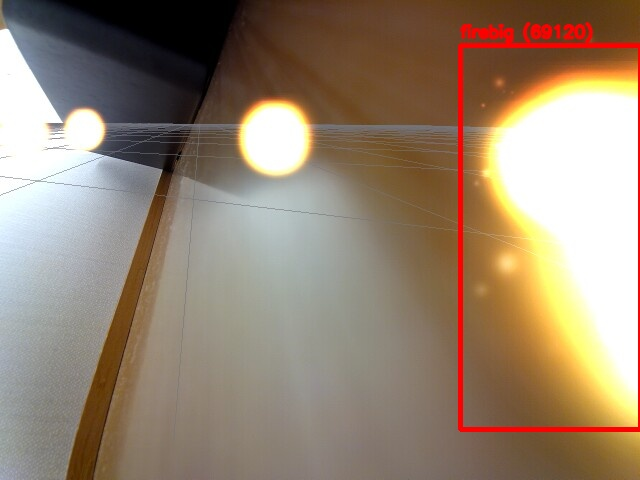firebig: (460, 45, 640, 429)
